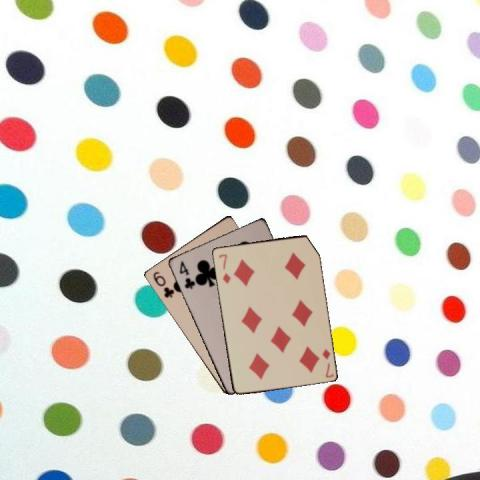4c: (176, 258, 196, 291)
6c: (150, 269, 176, 299)
7d: (215, 250, 232, 284), (319, 346, 335, 379)
